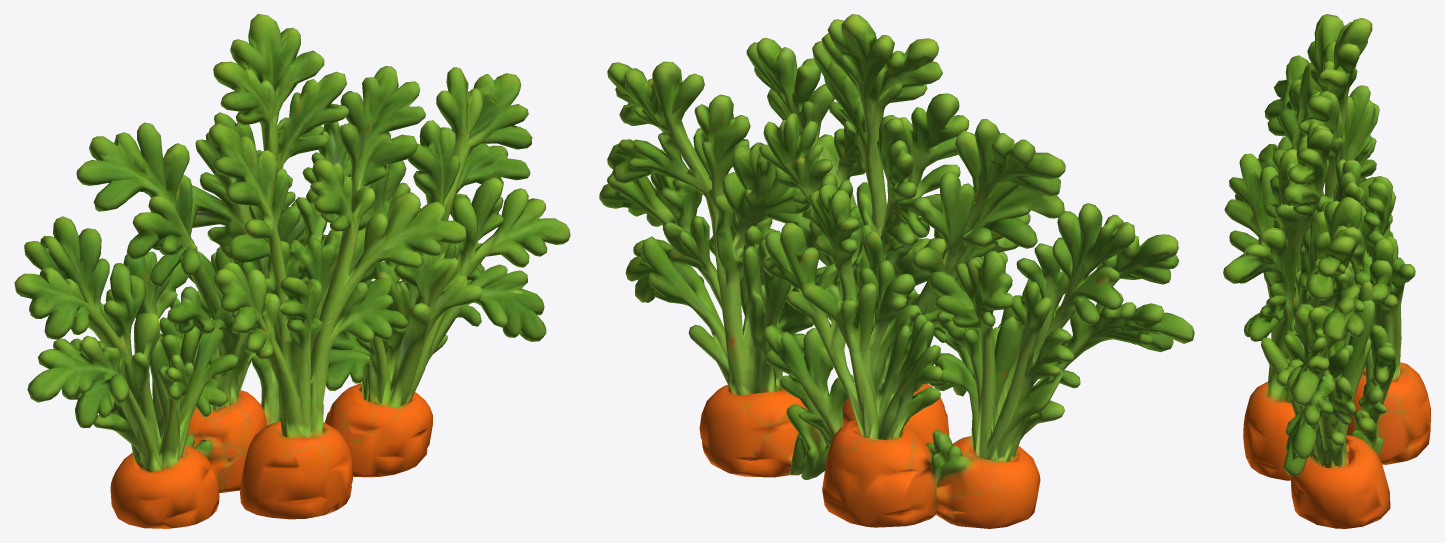
The model's file is carrot-growing.glb.
The picture shows the model from 3 angles, left to right: view 1: azimuth 30°, elevation 25°; view 2: azimuth 150°, elevation 25°; view 3: azimuth 270°, elevation 25°; orthographic projection. The views are drawn at different scales.
Bounding box in the file's own units: 1.9 × 1.5 × 0.6402.
1 material, 1 textured.
